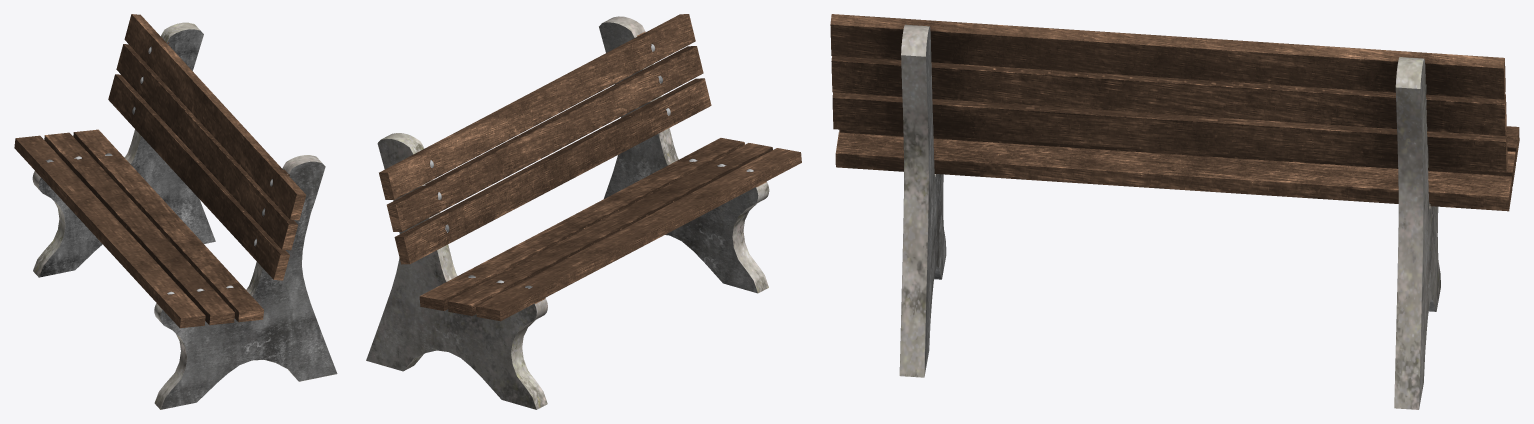
Rendered from bench3.glb.
3 views of the same model, side by side, from view 1: azimuth 30°, elevation 25°; view 2: azimuth 150°, elevation 25°; view 3: azimuth 270°, elevation 25° (orthographic). The views are drawn at different scales.
Visible parts, largest first — view 1: ConcreteBench_ConcreteBench_shader_0; view 2: ConcreteBench_ConcreteBench_shader_0; view 3: ConcreteBench_ConcreteBench_shader_0.
Part boxes in pixels (box(x1,y1,x2,y2)): ConcreteBench_ConcreteBench_shader_0: box(14, 14, 337, 409); ConcreteBench_ConcreteBench_shader_0: box(366, 14, 801, 409); ConcreteBench_ConcreteBench_shader_0: box(830, 14, 1519, 409).
Bounding box in the file's own units: 1.15 × 1.08 × 2.07.
Materials: 1 (1 with a texture image).
